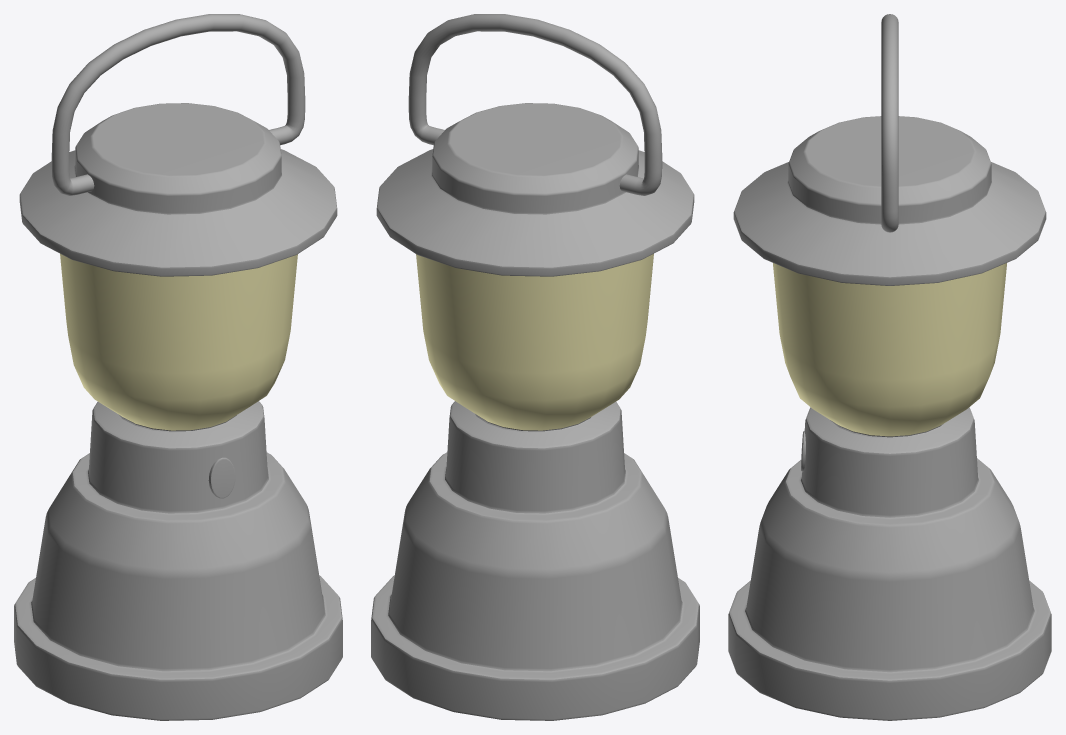
Rendered from lantern_light.fbx.
3 views of the same model, side by side, from view 1: azimuth 30°, elevation 25°; view 2: azimuth 150°, elevation 25°; view 3: azimuth 270°, elevation 25° (orthographic). The views are drawn at different scales.
Visible parts, largest first — view 1: lantern1, handle_lantern; view 2: lantern1, handle_lantern; view 3: lantern1, handle_lantern.
Boxes of the visible parts, left/top/right/bottom form: lantern1: left=14, top=103, right=342, bottom=720; handle_lantern: left=51, top=14, right=305, bottom=195; lantern1: left=371, top=103, right=699, bottom=720; handle_lantern: left=408, top=14, right=662, bottom=195; lantern1: left=728, top=116, right=1051, bottom=720; handle_lantern: left=881, top=14, right=898, bottom=232.
Size of the model in its own units: 2.24 by 4.74 by 2.24.
